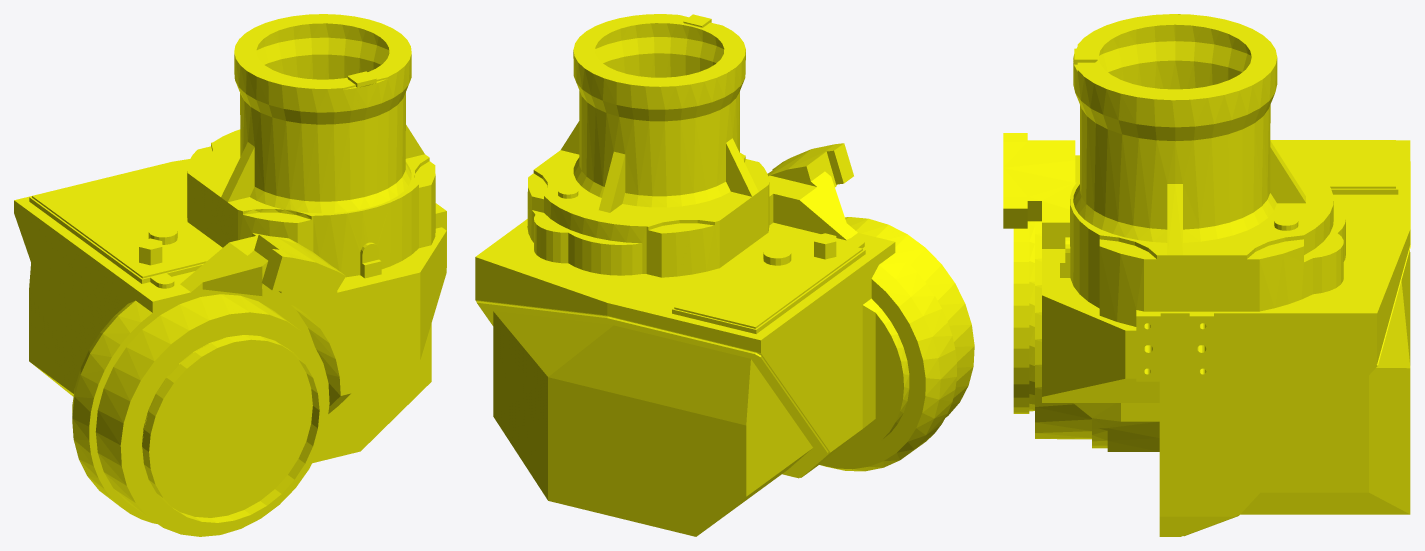
The picture shows the model from 3 angles, left to right: view 1: azimuth 30°, elevation 25°; view 2: azimuth 150°, elevation 25°; view 3: azimuth 270°, elevation 25°; orthographic projection. The views are drawn at different scales.
Parts seen in each view (by area): view 1: node; view 2: node; view 3: node.
Part boxes in pixels (x1,y1,x2,y2): node: [14, 14, 446, 536]; node: [475, 14, 974, 536]; node: [1003, 14, 1410, 536].
Size of the model in its own units: 451 by 467 by 367.
